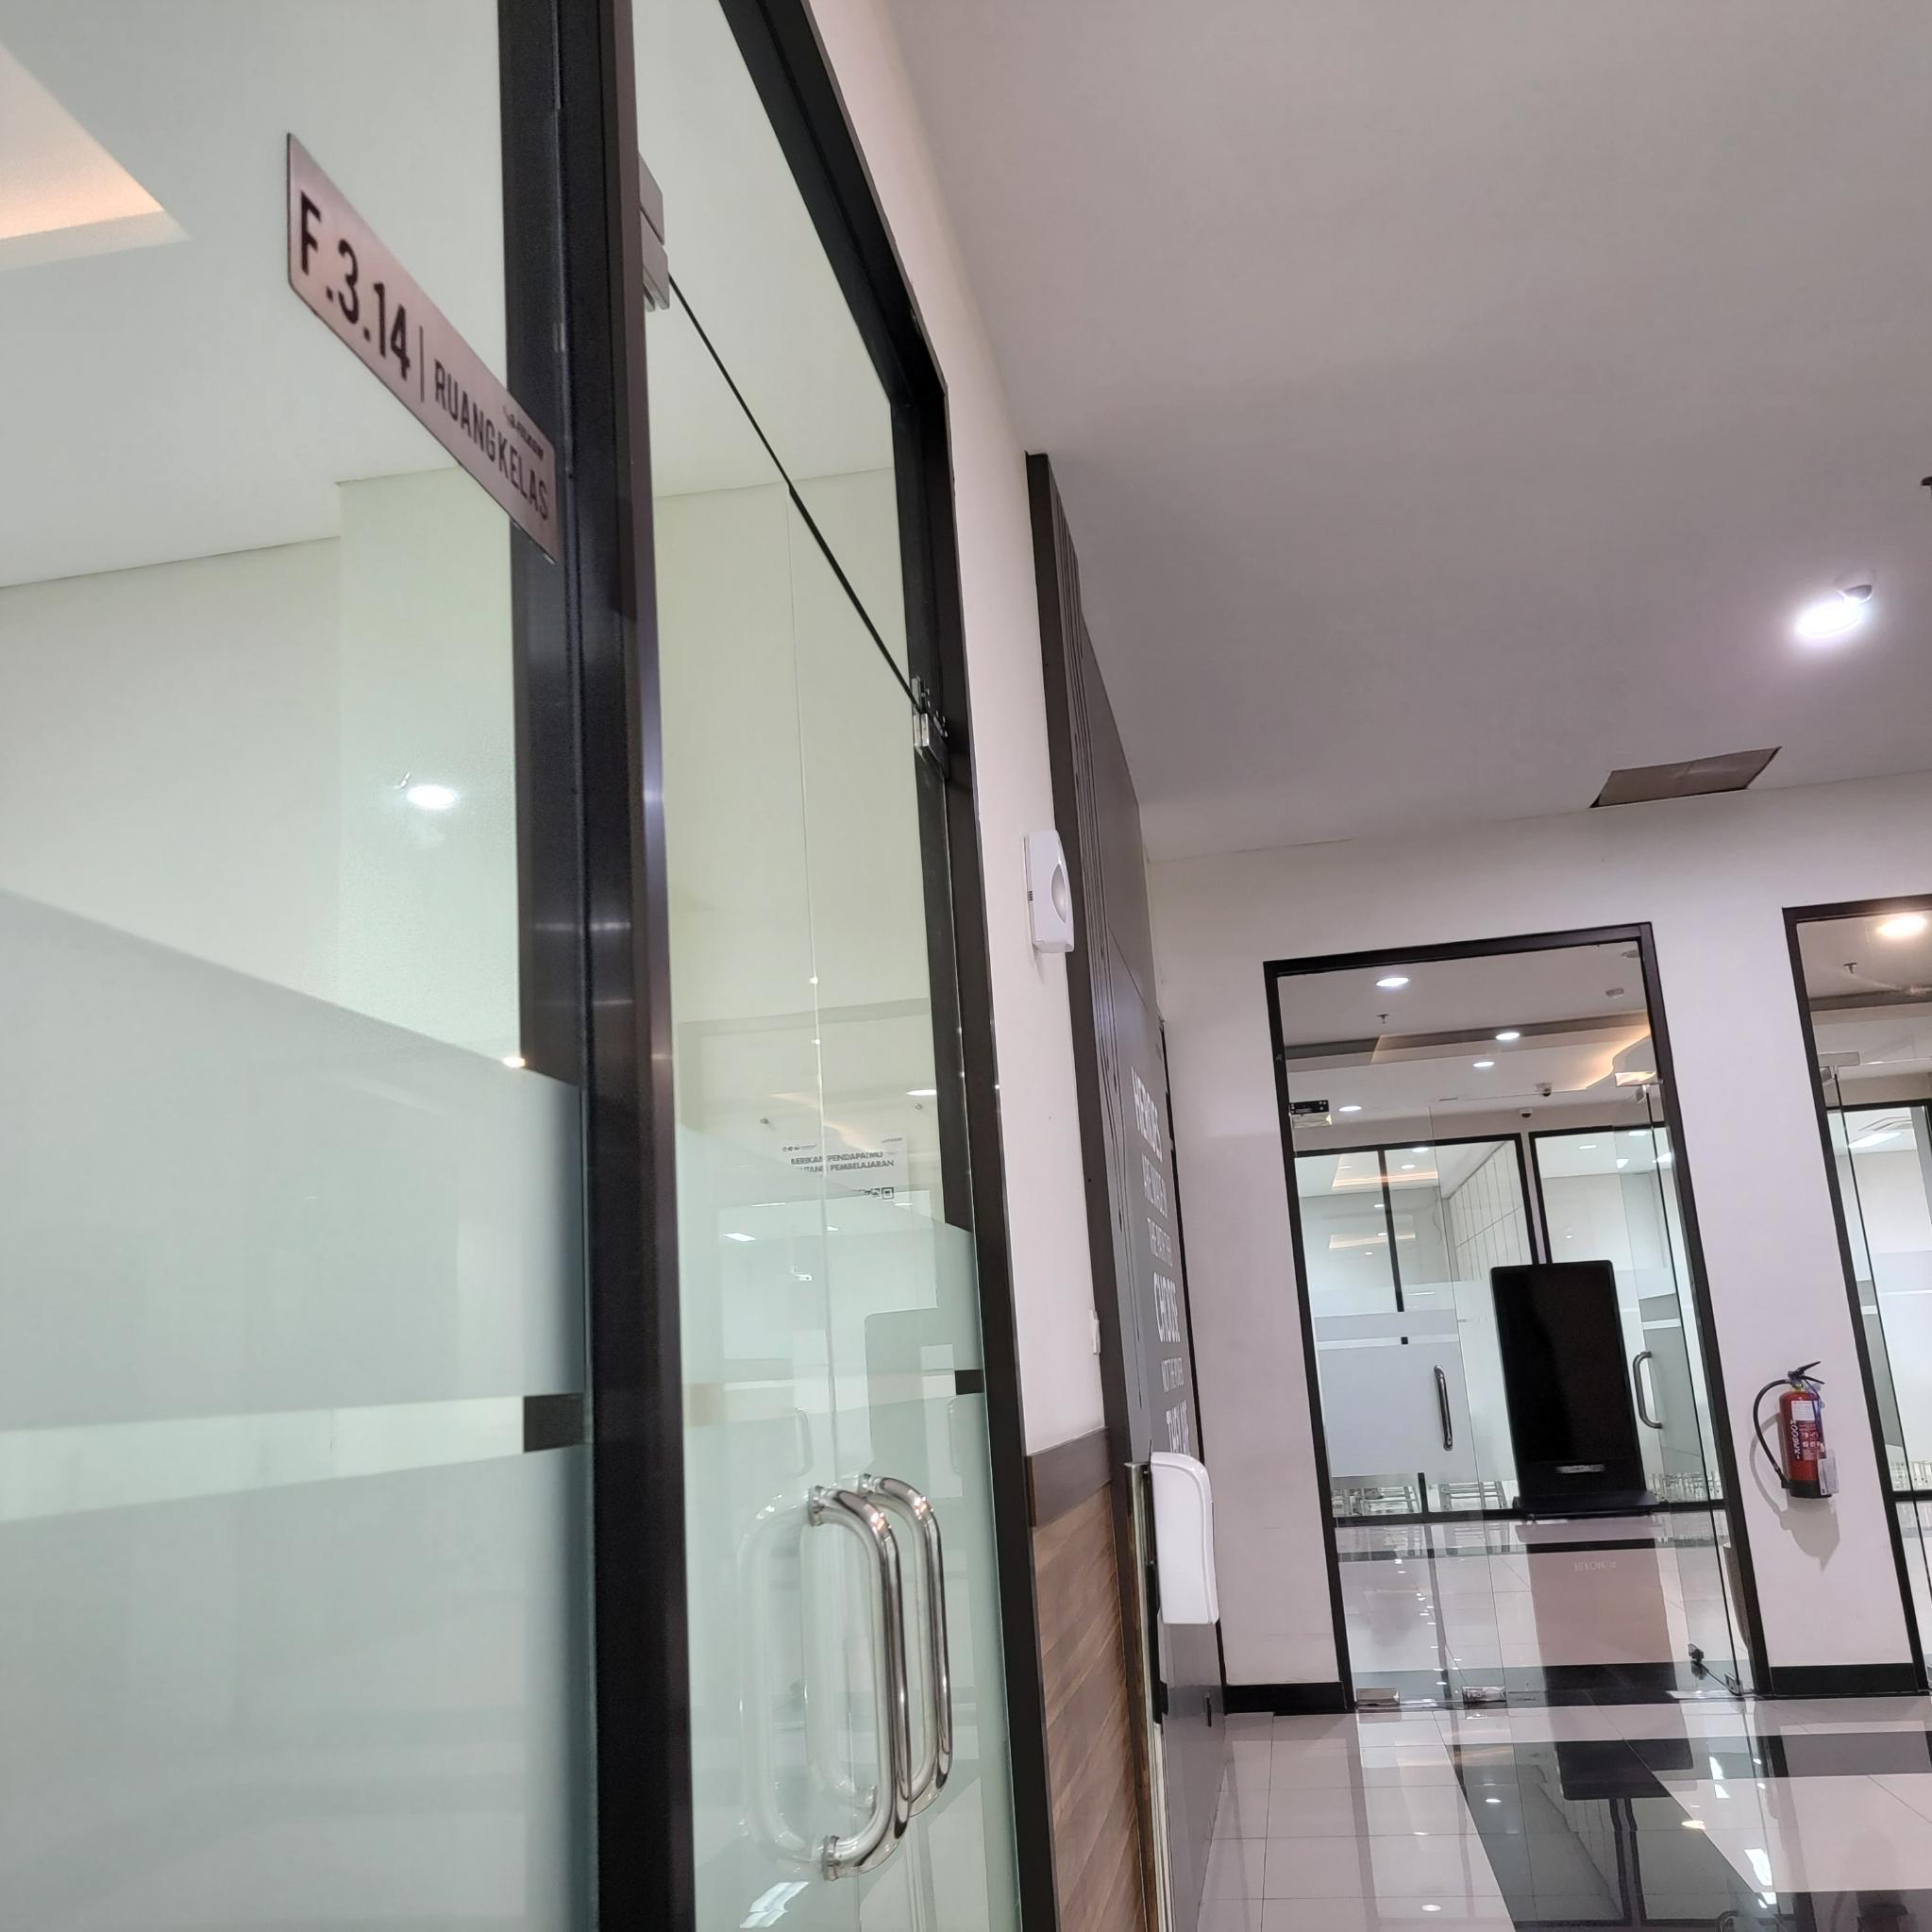plate: (287, 133, 559, 563)
